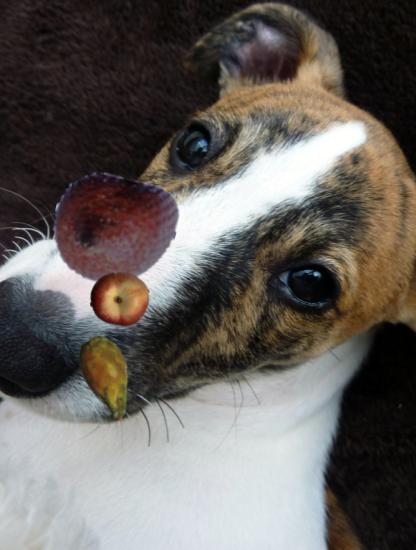Cactus: (64, 335, 152, 423)
Nectarine: (90, 269, 151, 330)
Salak: (52, 169, 175, 292)
